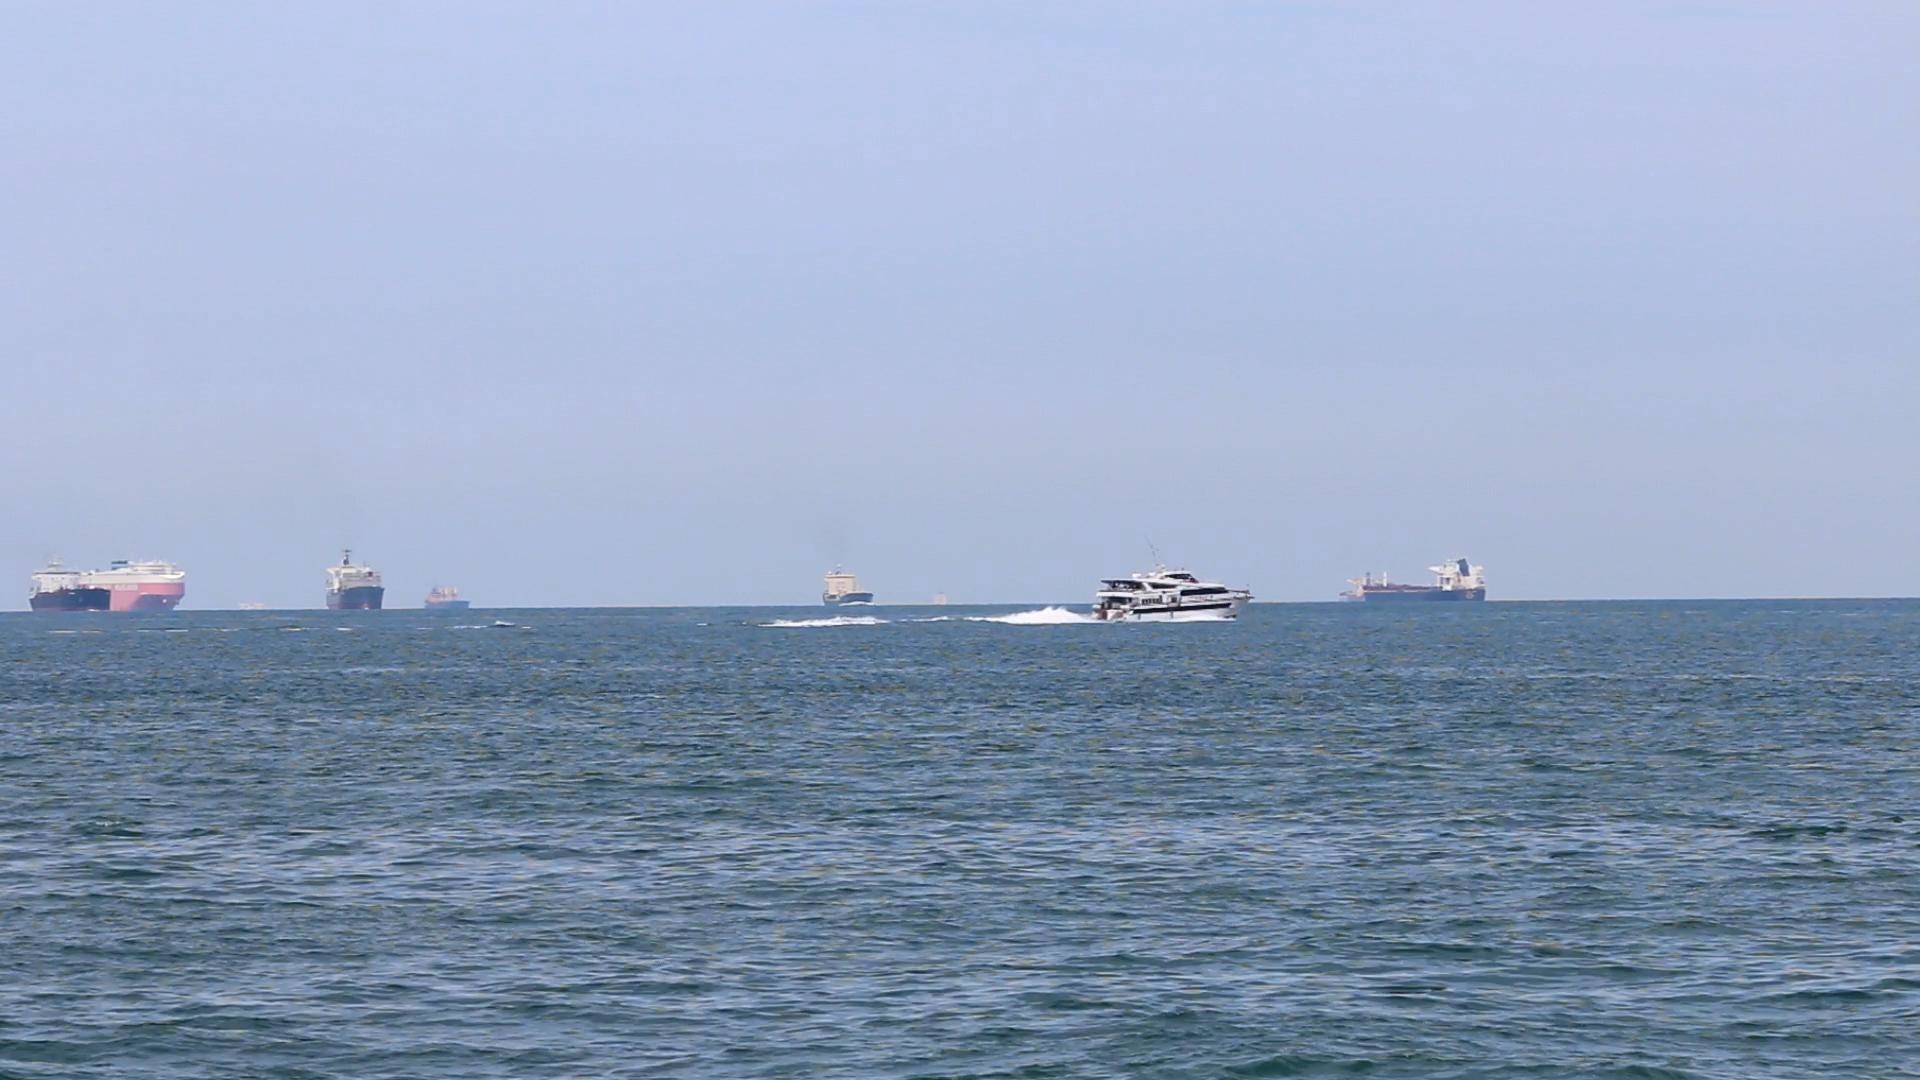Container Ship: (1325, 550, 1485, 609), (16, 558, 179, 612), (316, 537, 384, 617), (3, 568, 104, 615), (804, 556, 874, 604), (404, 571, 464, 615)
